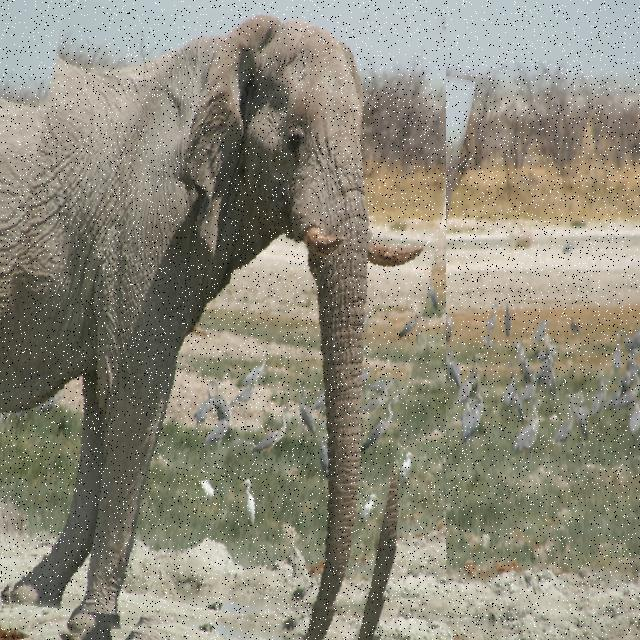elephant: (0, 12, 446, 640)
